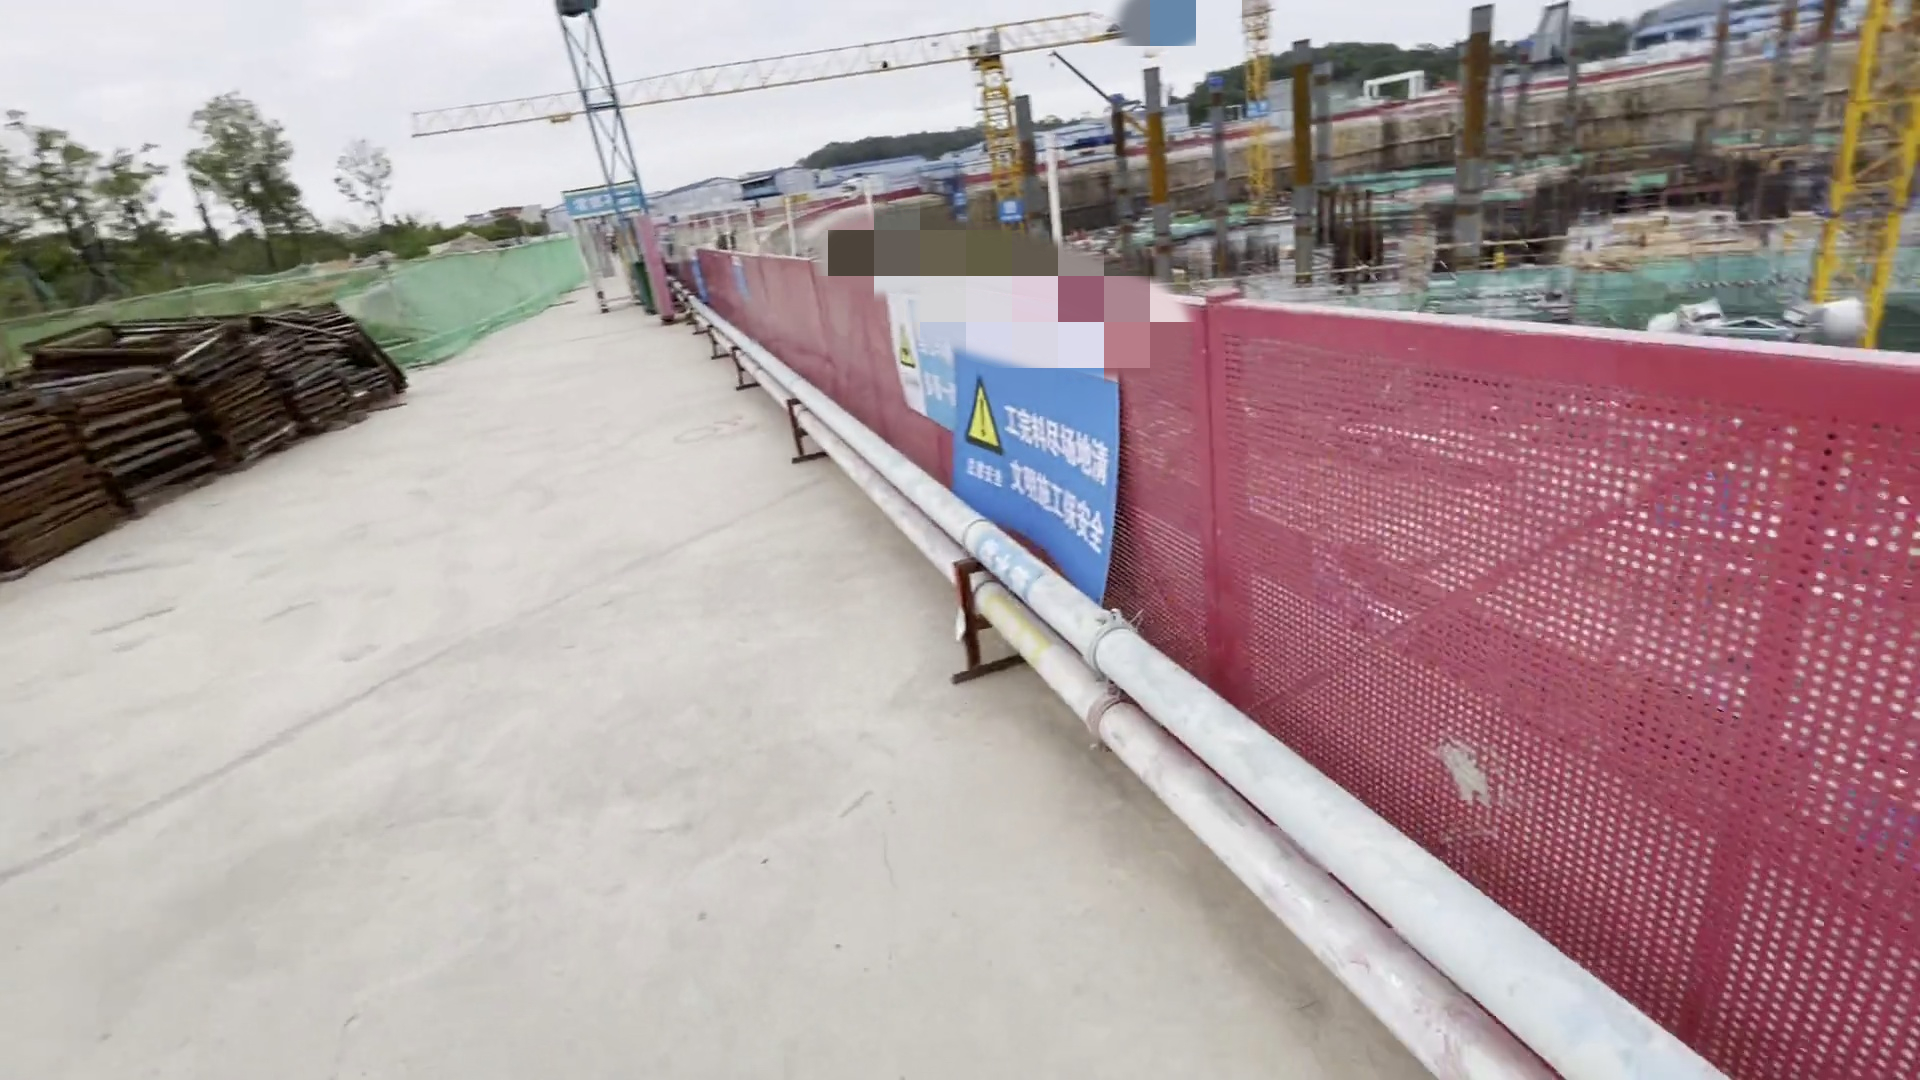fence: (659, 220, 1915, 1042)
slogan: (880, 293, 1139, 570), (560, 175, 654, 222), (993, 199, 1033, 223)
